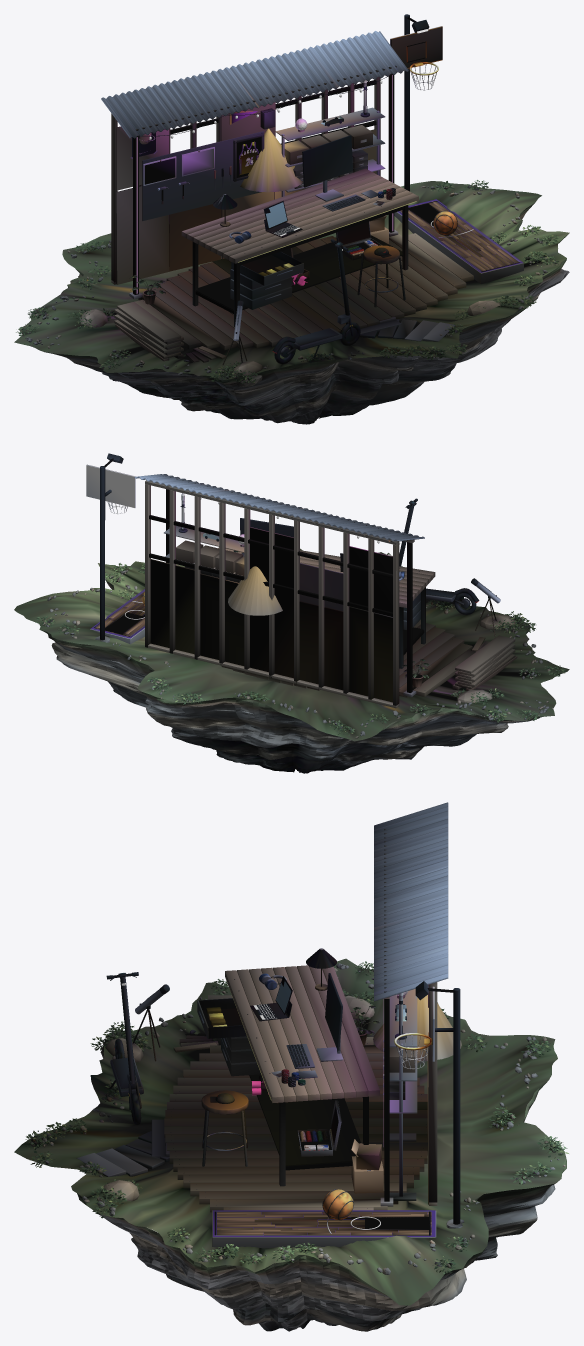
File: flight-projects-4df882a9.glb
3 views of the same model, one above another, from view 1: azimuth 30°, elevation 25°; view 2: azimuth 150°, elevation 25°; view 3: azimuth 270°, elevation 25° (orthographic). The views are drawn at different scales.
Visible parts, largest first — view 1: Projects island · flight.001; view 2: Projects island · flight.001; view 3: Projects island · flight.001.
Part boxes in pixels (left/top/right/bottom): Projects island · flight.001: left=14, top=14, right=569, bottom=424; Projects island · flight.001: left=14, top=453, right=569, bottom=773; Projects island · flight.001: left=14, top=802, right=568, bottom=1331.
Bounding box in the file's own units: 12.7 × 7.34 × 8.69.
